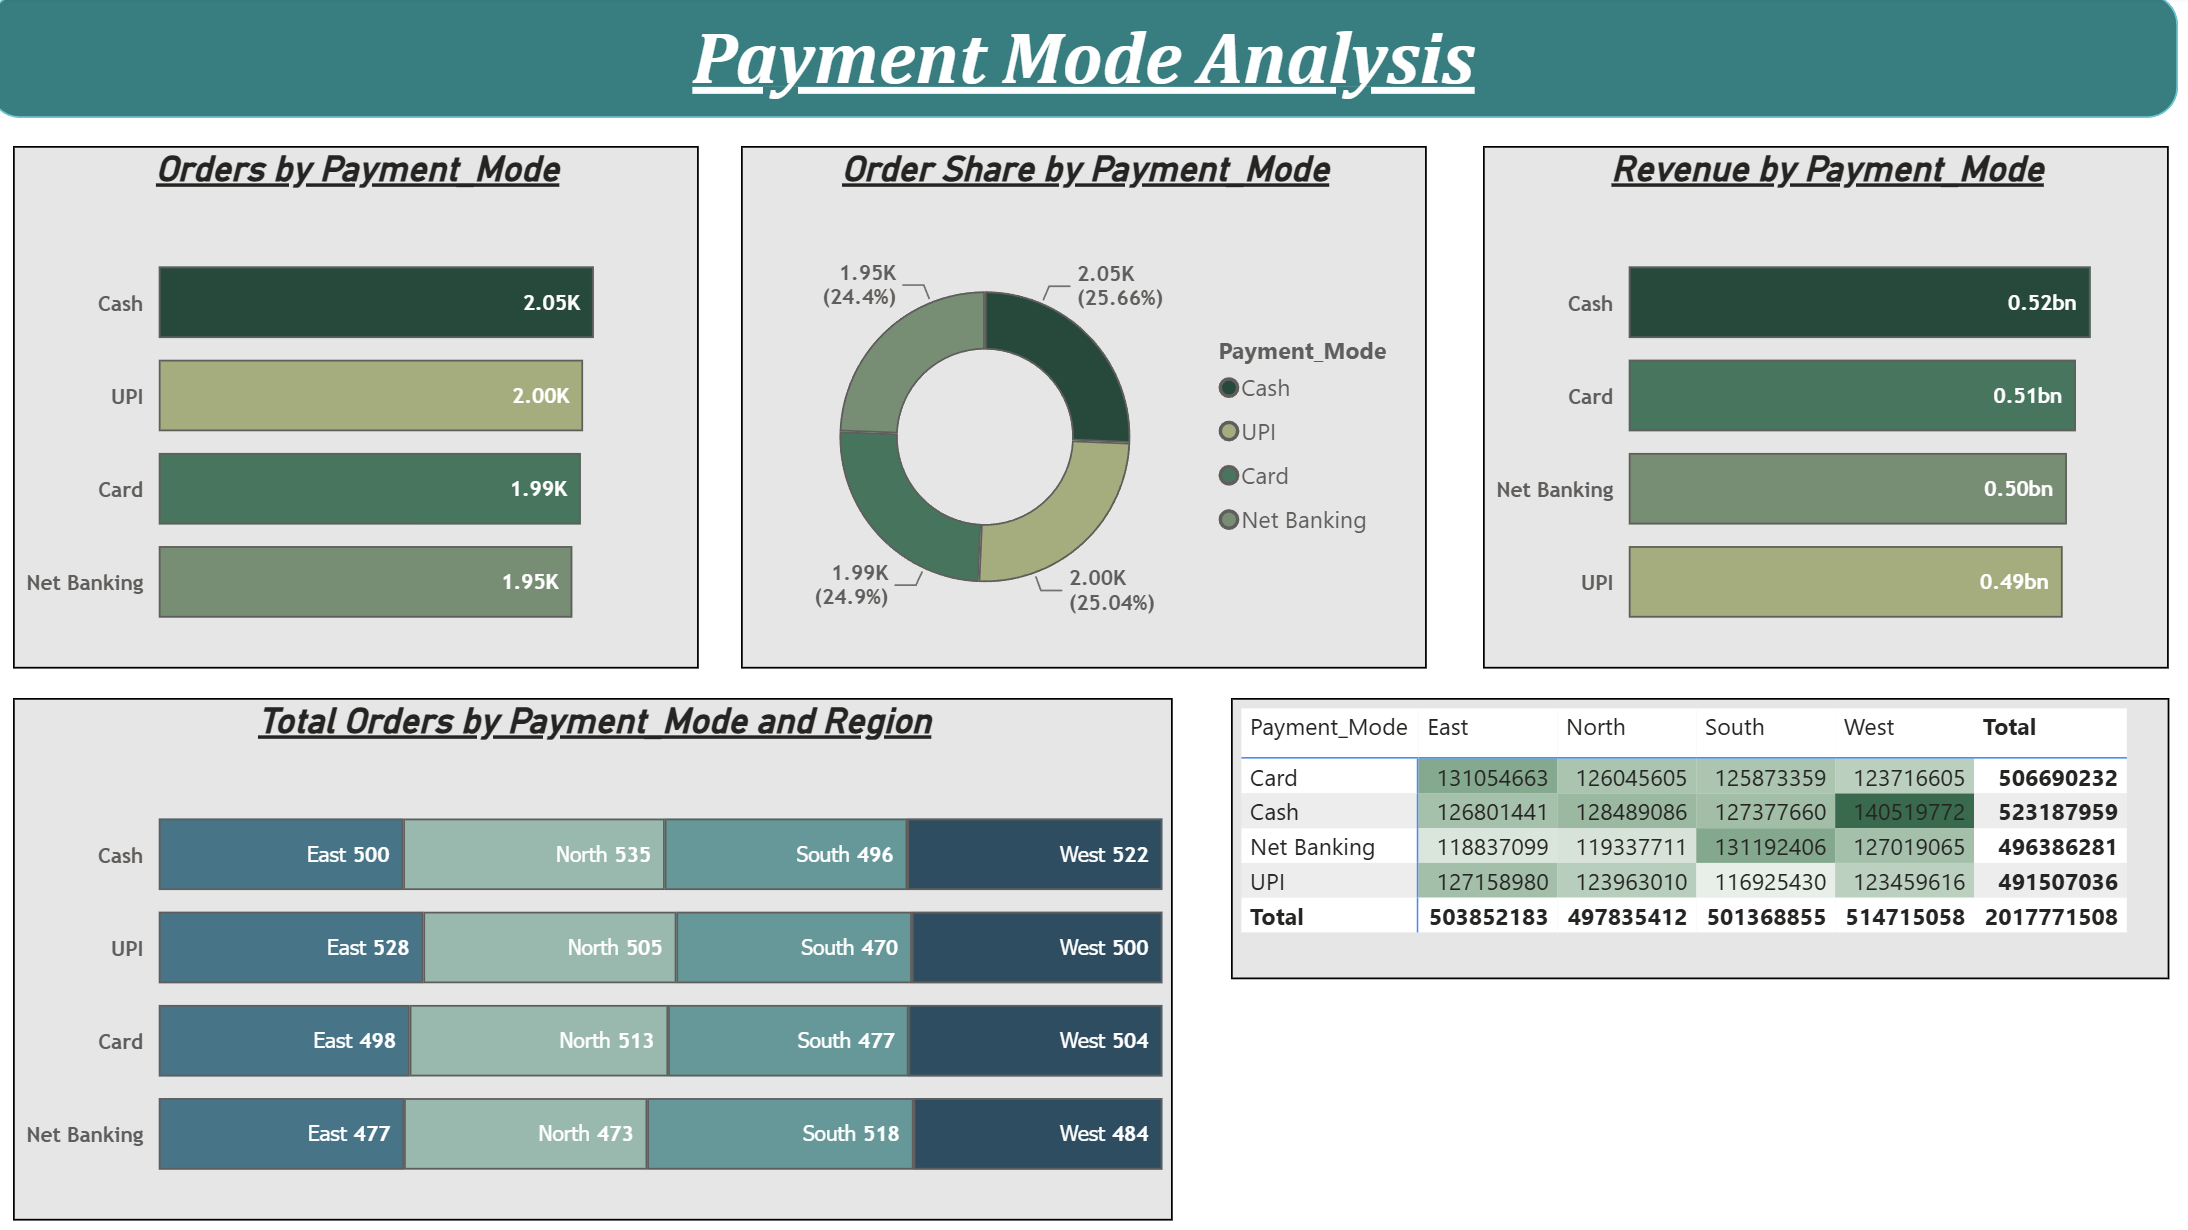

The dashboard page shown, as its layout file describes it:
{"tool":"powerbi","page":{"name":"L2 | T3","canvas":[1280,720],"ordinal":3},"visuals":[{"type":"shape","box":[10.2,0,1260.9,71.4],"z":0},{"type":"barChart","title":"Orders by Payment_Mode","fields":{"Category":["Sales_data.Payment_Mode"],"Y":["Measures Table 1.Total Orders"]},"box":[24.2,88,395,300.9],"z":1000},{"type":"donutChart","title":"Order Share by Payment_Mode","fields":{"Category":["Sales_data.Payment_Mode"],"Y":["Measures Table 1.Total Orders"]},"box":[443.7,88,395,301],"z":2000},{"type":"barChart","title":"Revenue by Payment_Mode","fields":{"Category":["Sales_data.Payment_Mode"],"Y":["Measures Table 1.Total Sales"]},"box":[870.8,88,395,300.9],"z":3000},{"type":"hundredPercentStackedBarChart","fields":{"Category":["Sales_data.Payment_Mode"],"Series":["Sales_data.Region"],"Y":["Measures Table 1.Total Orders"]},"box":[24.2,405.4,668,300.9],"z":4000},{"type":"pivotTable","fields":{"Columns":["Sales_data.Region"],"Rows":["Sales_data.Payment_Mode"],"Values":["Measures Table 1.Total Sales"]},"box":[725.4,405.4,540.6,161.9],"z":5000}]}

Visuals, with their boxes in screenshot pixels (x1, y1, x2, y2), scaled from the page's 1280x720 canvas onto the 2188x1230 screenshot:
shape: (17, 0, 2173, 122)
"Orders by Payment_Mode" barChart: (41, 150, 717, 664)
"Order Share by Payment_Mode" donutChart: (758, 150, 1434, 665)
"Revenue by Payment_Mode" barChart: (1489, 150, 2164, 664)
hundredPercentStackedBarChart - Sales_data.Payment_Mode x Sales_data.Region: (41, 693, 1183, 1207)
pivotTable - Sales_data.Region x Sales_data.Payment_Mode: (1240, 693, 2164, 969)
